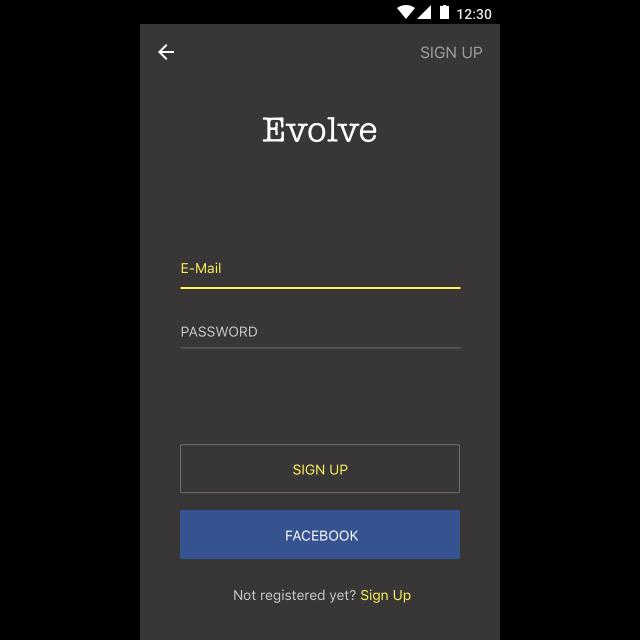icon: (158, 44, 175, 60)
input: (181, 262, 461, 290), (181, 326, 461, 349)
text: (263, 117, 377, 143), (234, 589, 411, 603), (421, 46, 483, 60), (182, 327, 258, 338), (182, 262, 222, 274)
textbutton: (180, 444, 460, 494), (180, 510, 460, 560)
uppertaskbar: (140, 0, 500, 24)
